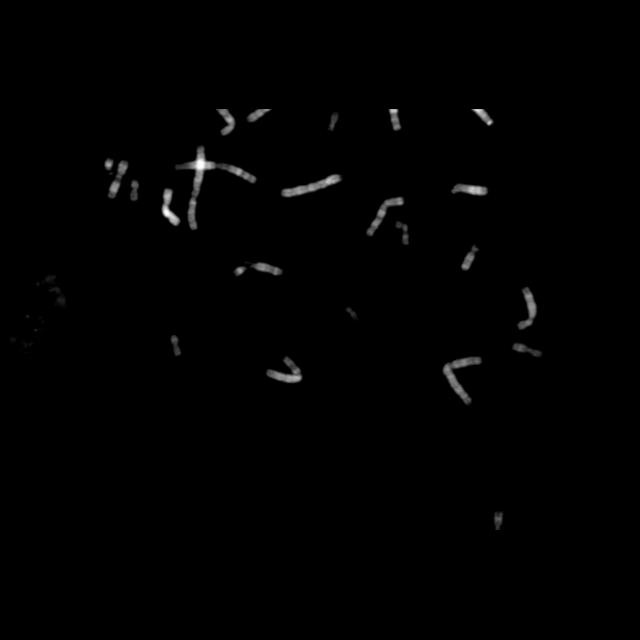chromosome: (444, 356, 482, 404), (176, 161, 256, 183), (366, 198, 404, 236), (188, 146, 205, 230), (281, 175, 341, 198), (266, 356, 302, 382), (517, 287, 537, 329), (108, 160, 128, 198), (162, 188, 180, 226), (216, 107, 234, 135), (250, 262, 282, 276), (452, 184, 488, 196), (462, 244, 478, 270), (514, 343, 542, 357), (396, 222, 408, 244), (170, 335, 182, 357), (390, 108, 400, 130), (344, 306, 358, 320), (327, 114, 339, 130), (494, 512, 504, 530), (130, 182, 138, 200), (232, 266, 246, 276), (103, 158, 112, 170)
